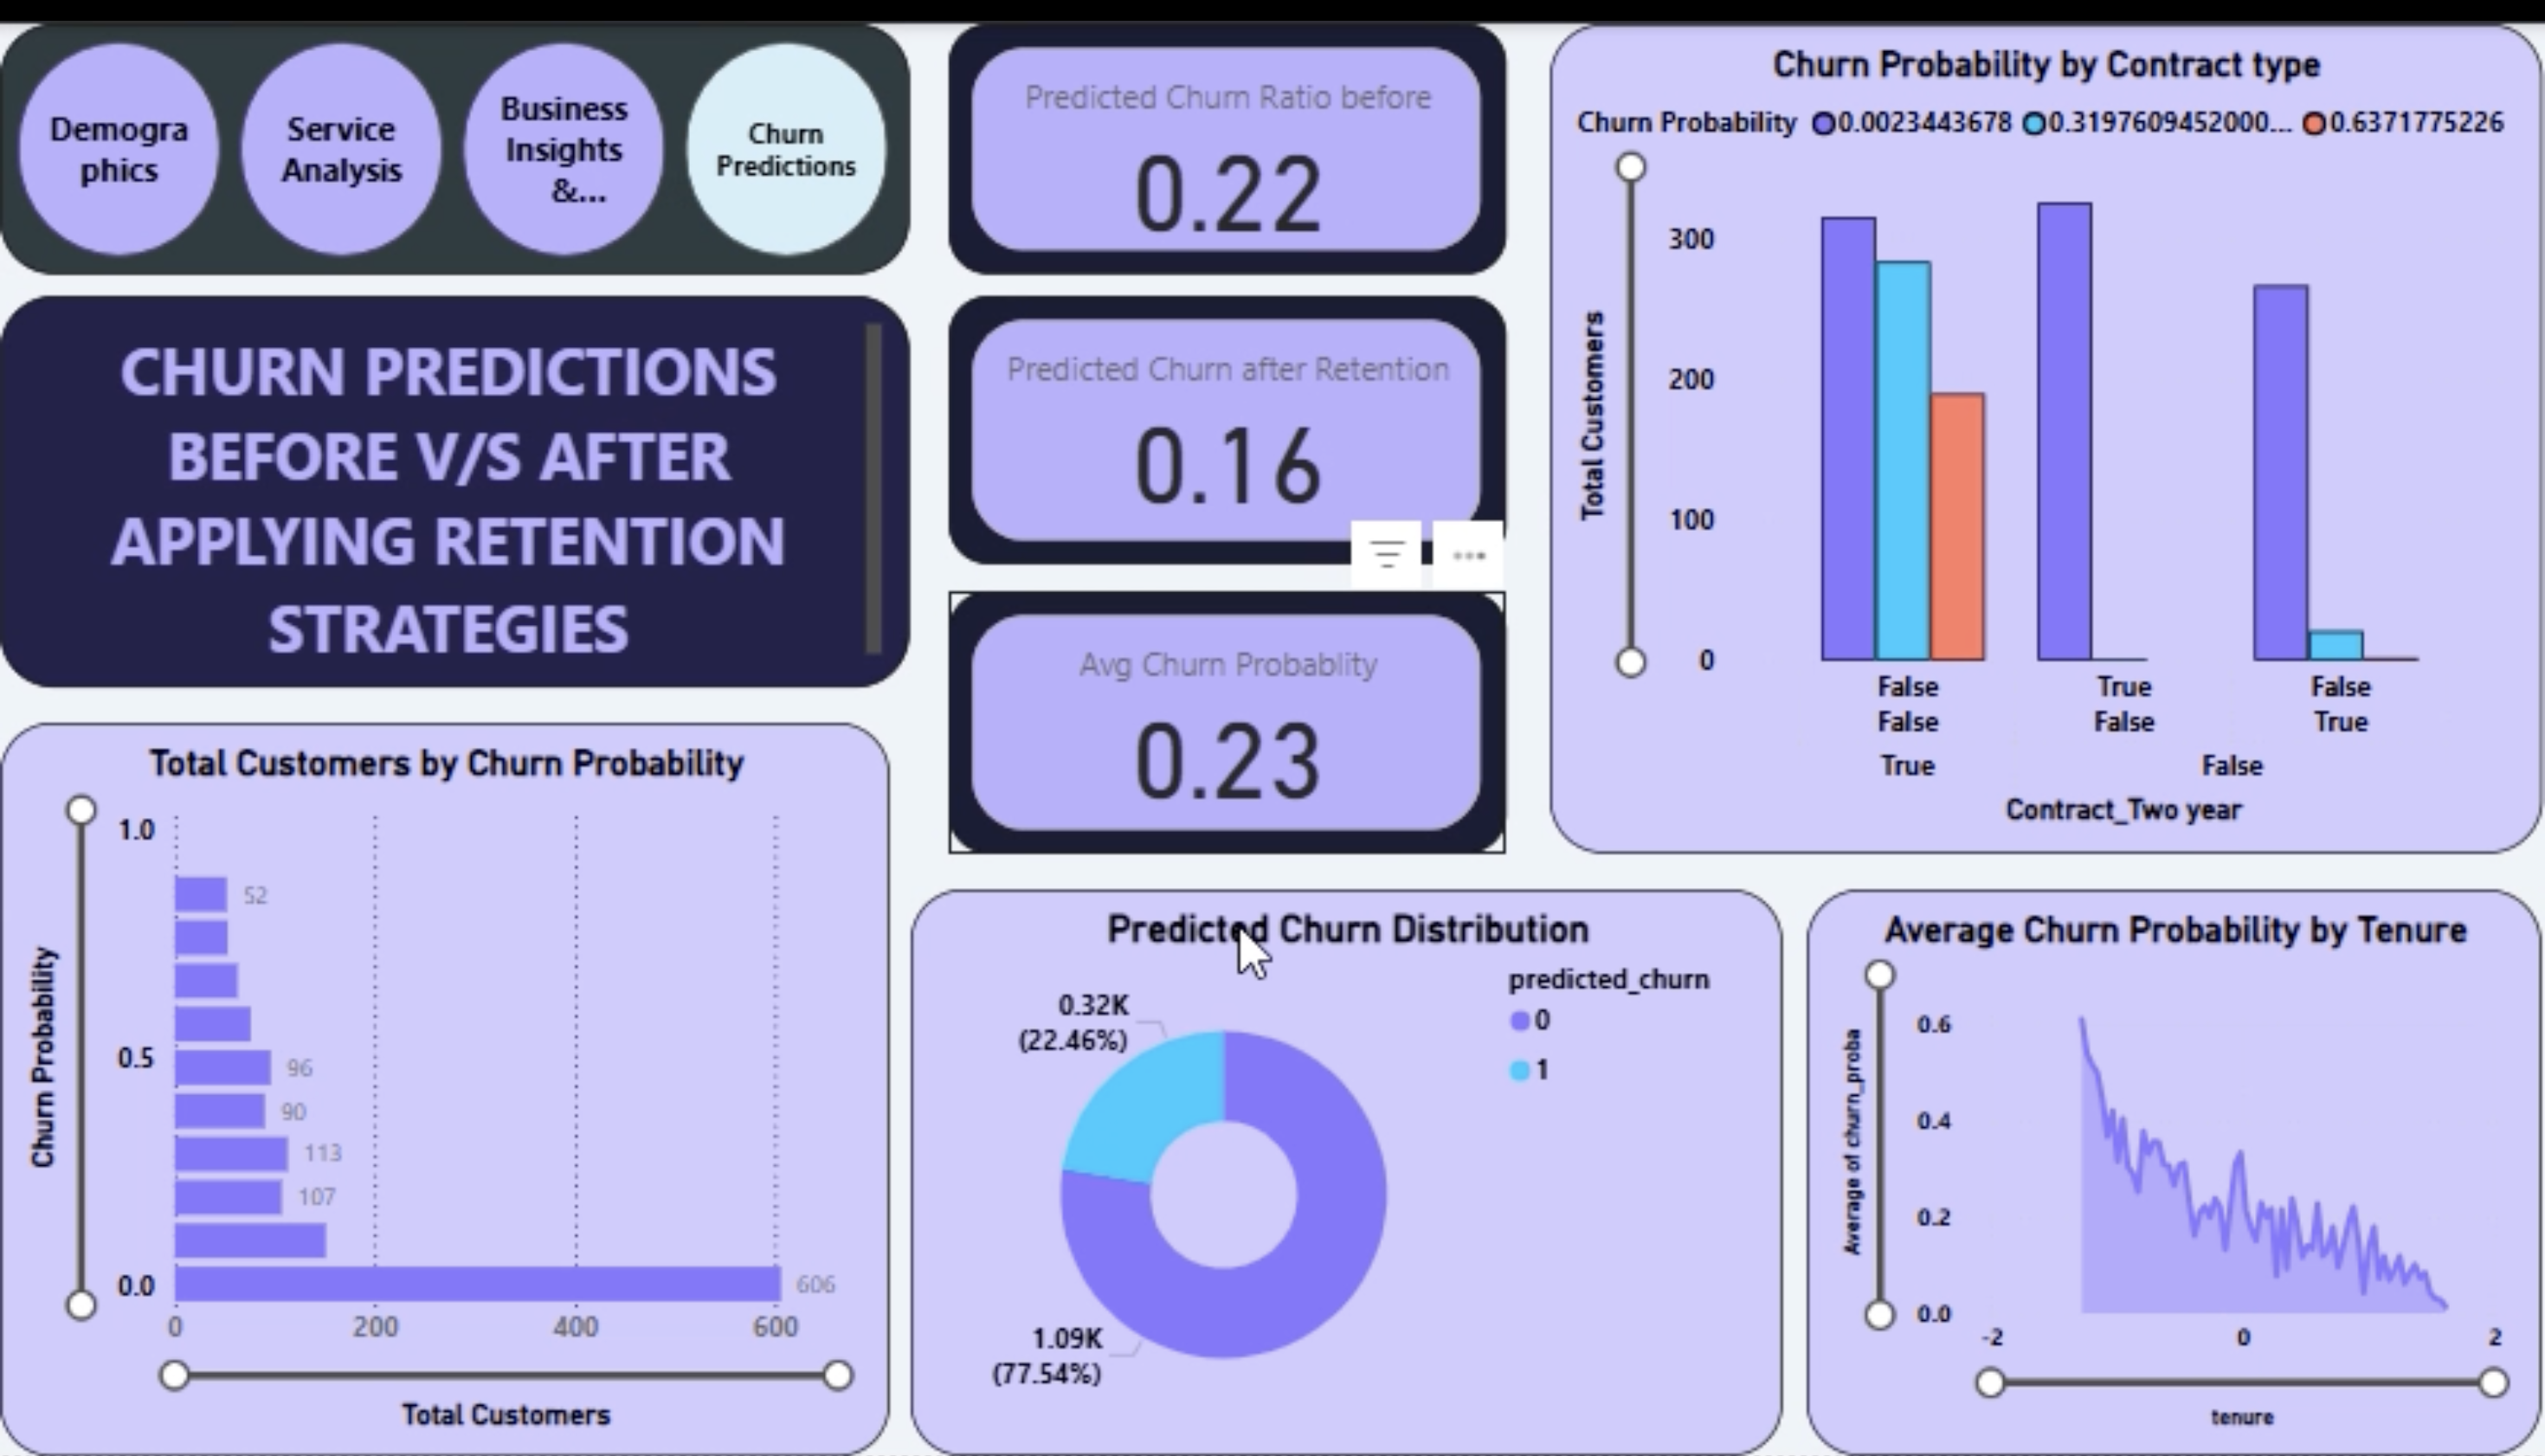

This screenshot's page, from the dashboard's own definition file:
{"tool":"powerbi","page":{"name":"Churn Predictions","canvas":[1280,720],"ordinal":3},"visuals":[{"type":"clusteredBarChart","title":"Total Customers by Churn Probability","fields":{"Y":["CountNonNull(predictions_data.actual_churn)"],"Category":["predictions_data.churn_proba (bins)"]},"box":[0,323.3,448.2,396.7],"z":0},{"type":"donutChart","title":"Predicted Churn Distribution","fields":{"Category":["predictions_data.pred_after_retention","predictions_data.predicted_churn"],"Y":["CountNonNull(predictions_data.predicted_churn)"]},"box":[458.4,434.9,439.3,285.1],"z":1000},{"type":"cardVisual","fields":{"Data":["Avg(predictions_data.predicted_churn)"]},"box":[505.5,0,270.4,126.4],"z":2000},{"type":"cardVisual","fields":{"Data":["Avg(predictions_data.pred_after_retention)"]},"box":[495.2,136.7,280.7,135.2],"z":3000},{"type":"cardVisual","fields":{"Data":["Avg(predictions_data.churn_proba (bins))"]},"box":[511.3,285.1,264.5,132.2],"z":4000},{"type":"clusteredColumnChart","title":"Churn Probability by Contract type","fields":{"Category":["predictions_data.Contract_Month-to-month","predictions_data.Contract_One year","predictions_data.Contract_Two year"],"Y":["CountNonNull(predictions_data.actual_churn)"],"Series":["predictions_data.churn_proba (bins)2"]},"box":[790.5,0,489.3,417.3],"z":5000},{"type":"areaChart","title":"Average Churn Probability by Tenure","fields":{"Y":["Avg(predictions_data.churn_proba)"],"Category":["predictions_data.tenure"]},"box":[909.6,434.9,370.3,285.1],"z":6000},{"type":"textbox","box":[0,136.7,458.4,179.3],"z":6001},{"type":"pageNavigator","box":[0,0,458.4,126.4],"z":6002}]}

Visuals, with their boxes in screenshot pixels (x1, y1, x2, y2), scaled from the page's 1280x720 canvas onto the 2545x1456 screenshot:
"Total Customers by Churn Probability" clusteredBarChart: x1=0 y1=654 x2=891 y2=1455
"Predicted Churn Distribution" donutChart: x1=912 y1=879 x2=1785 y2=1455
cardVisual - Avg(predictions_data.predicted_churn): x1=1005 y1=0 x2=1543 y2=255
cardVisual - Avg(predictions_data.pred_after_retention): x1=984 y1=276 x2=1543 y2=550
cardVisual - Avg(predictions_data.churn_proba (bins)): x1=1016 y1=577 x2=1543 y2=844
"Churn Probability by Contract type" clusteredColumnChart: x1=1572 y1=0 x2=2544 y2=844
"Average Churn Probability by Tenure" areaChart: x1=1808 y1=879 x2=2544 y2=1455
textbox: x1=0 y1=276 x2=912 y2=639
pageNavigator: x1=0 y1=0 x2=912 y2=255
